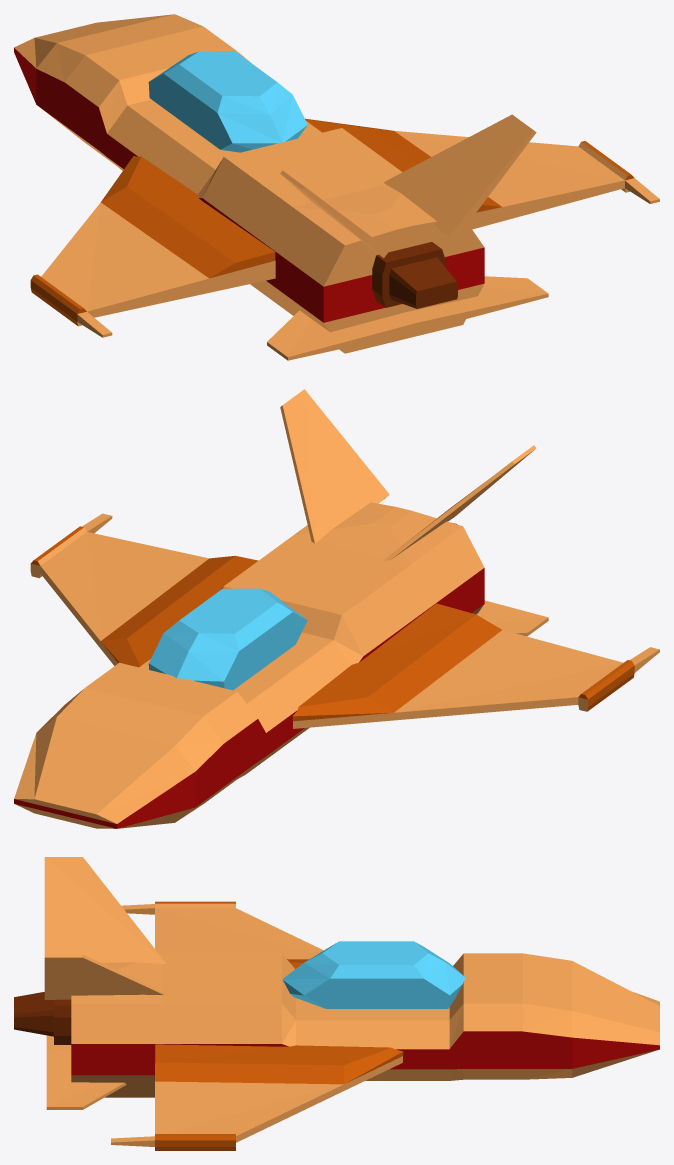
File: jet_charger.glb
The picture shows the model from 3 angles, top to bottom: view 1: azimuth 30°, elevation 25°; view 2: azimuth 150°, elevation 25°; view 3: azimuth 270°, elevation 25°; orthographic projection. The views are drawn at different scales.
Visible parts, largest first — view 1: Cube; view 2: Cube; view 3: Cube.
Boxes of the visible parts, x1=… form: Cube: x1=14, y1=14, x2=659, y2=360; Cube: x1=14, y1=389, x2=659, y2=828; Cube: x1=14, y1=857, x2=659, y2=1150.
Bounding box in the file's own units: 3.44 × 1.13 × 3.97.
Materials: 1 (1 with a texture image).
